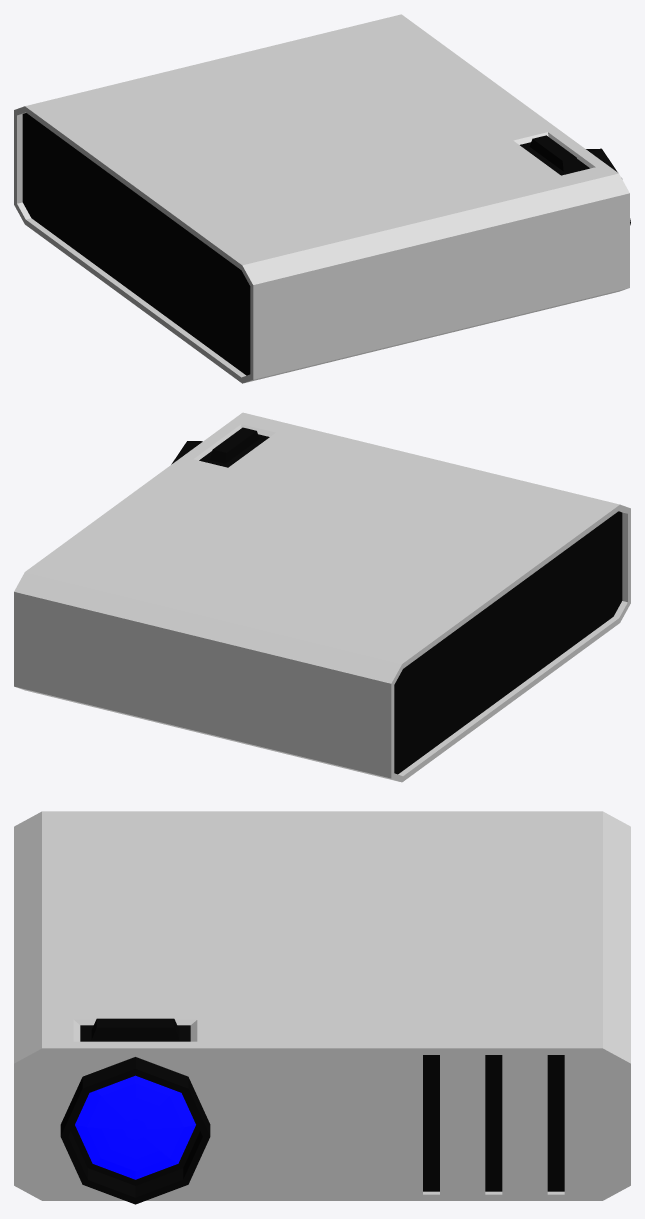
File: projector.fbx
The picture shows the model from 3 angles, top to bottom: view 1: azimuth 30°, elevation 25°; view 2: azimuth 150°, elevation 25°; view 3: azimuth 270°, elevation 25°; orthographic projection. The views are drawn at different scales.
Visible parts, largest first — view 1: Cube; view 2: Cube; view 3: Cube.
Part boxes in pixels (bbox=[...]): Cube: bbox=[14, 14, 630, 383]; Cube: bbox=[14, 412, 630, 782]; Cube: bbox=[14, 811, 630, 1204].
Bounding box in the file's own units: 210 × 62.92 × 220.
